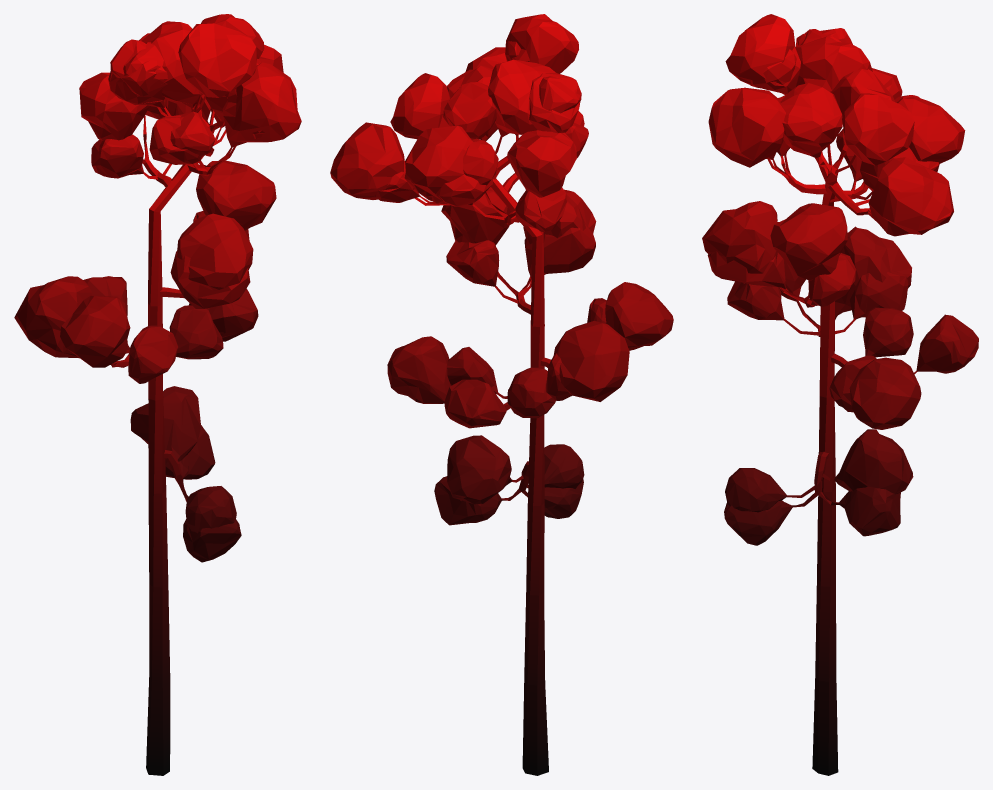
File: TreePine10.fbx
3 views of the same model, side by side, from view 1: azimuth 30°, elevation 25°; view 2: azimuth 150°, elevation 25°; view 3: azimuth 270°, elevation 25° (orthographic). The views are drawn at different scales.
Parts seen in each view (by area): view 1: TreePine10_LOD0; view 2: TreePine10_LOD0; view 3: TreePine10_LOD0.
Boxes of the visible parts, x1,y1,x2,y2 form: TreePine10_LOD0: [14, 14, 301, 775]; TreePine10_LOD0: [330, 14, 673, 775]; TreePine10_LOD0: [702, 14, 978, 775].
Size of what is drawn, in the model's own units: 662 by 1732 by 571.
